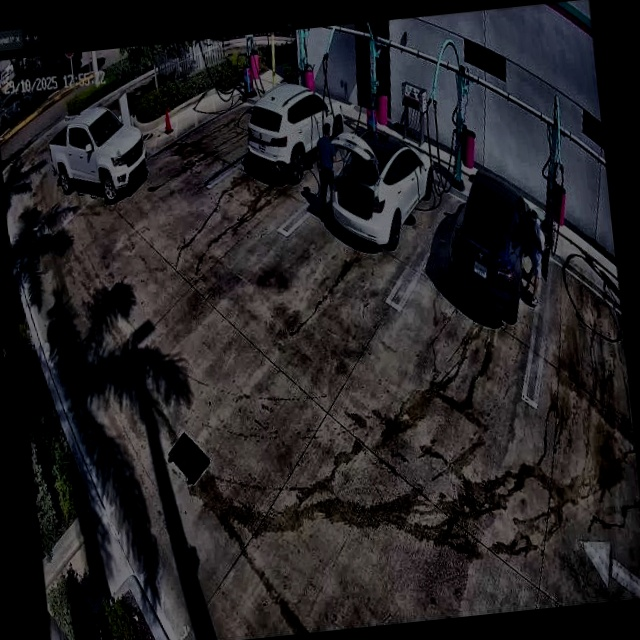Car: (436, 161, 544, 333), (317, 118, 439, 255), (243, 85, 347, 189)
